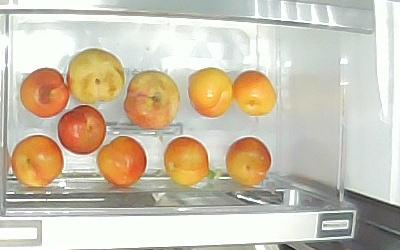prune: (124, 68, 181, 131), (67, 46, 125, 103), (11, 135, 65, 188), (19, 66, 69, 119), (97, 136, 148, 187), (224, 135, 272, 186), (163, 136, 211, 186), (59, 106, 107, 155), (188, 69, 234, 118), (233, 70, 277, 118)
